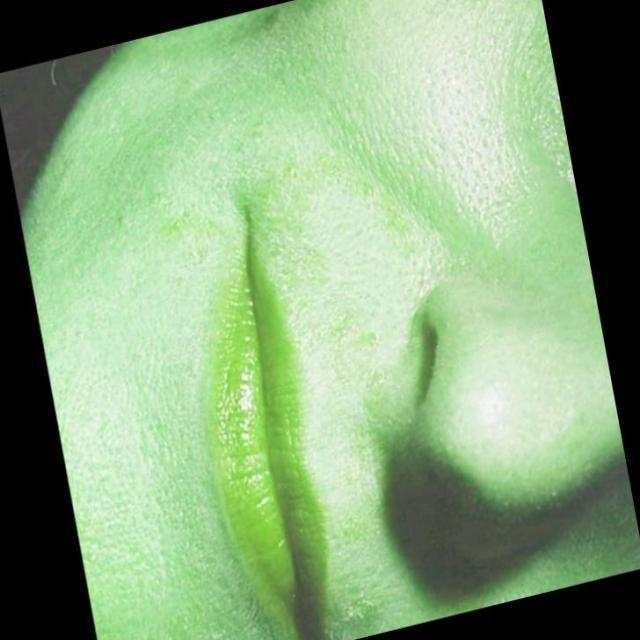Acne: (261, 119, 426, 639)
